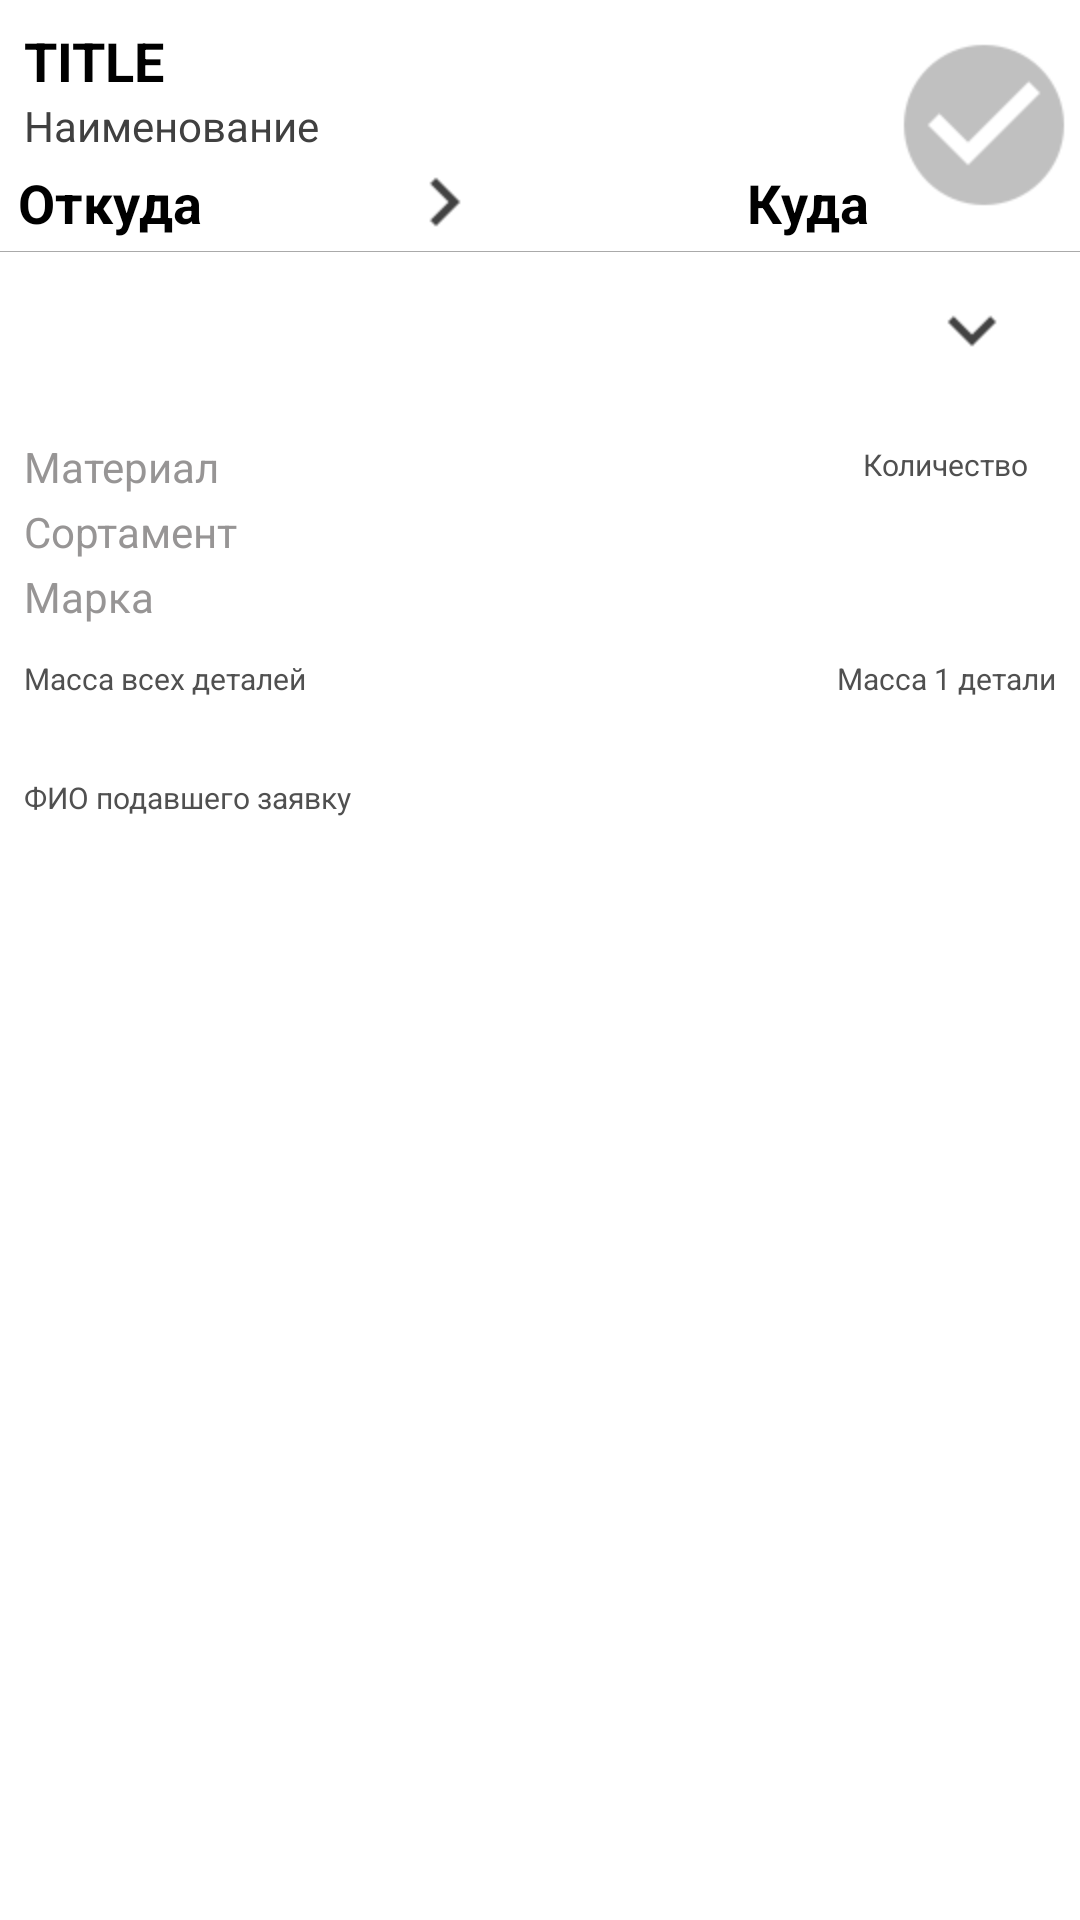

Icon bounding boxes for this 1080×1920 phone screenshot, format box(x1, y1, x2, y2):
Check image: box(904, 45, 1064, 205)
chevron right: box(430, 178, 460, 226)
